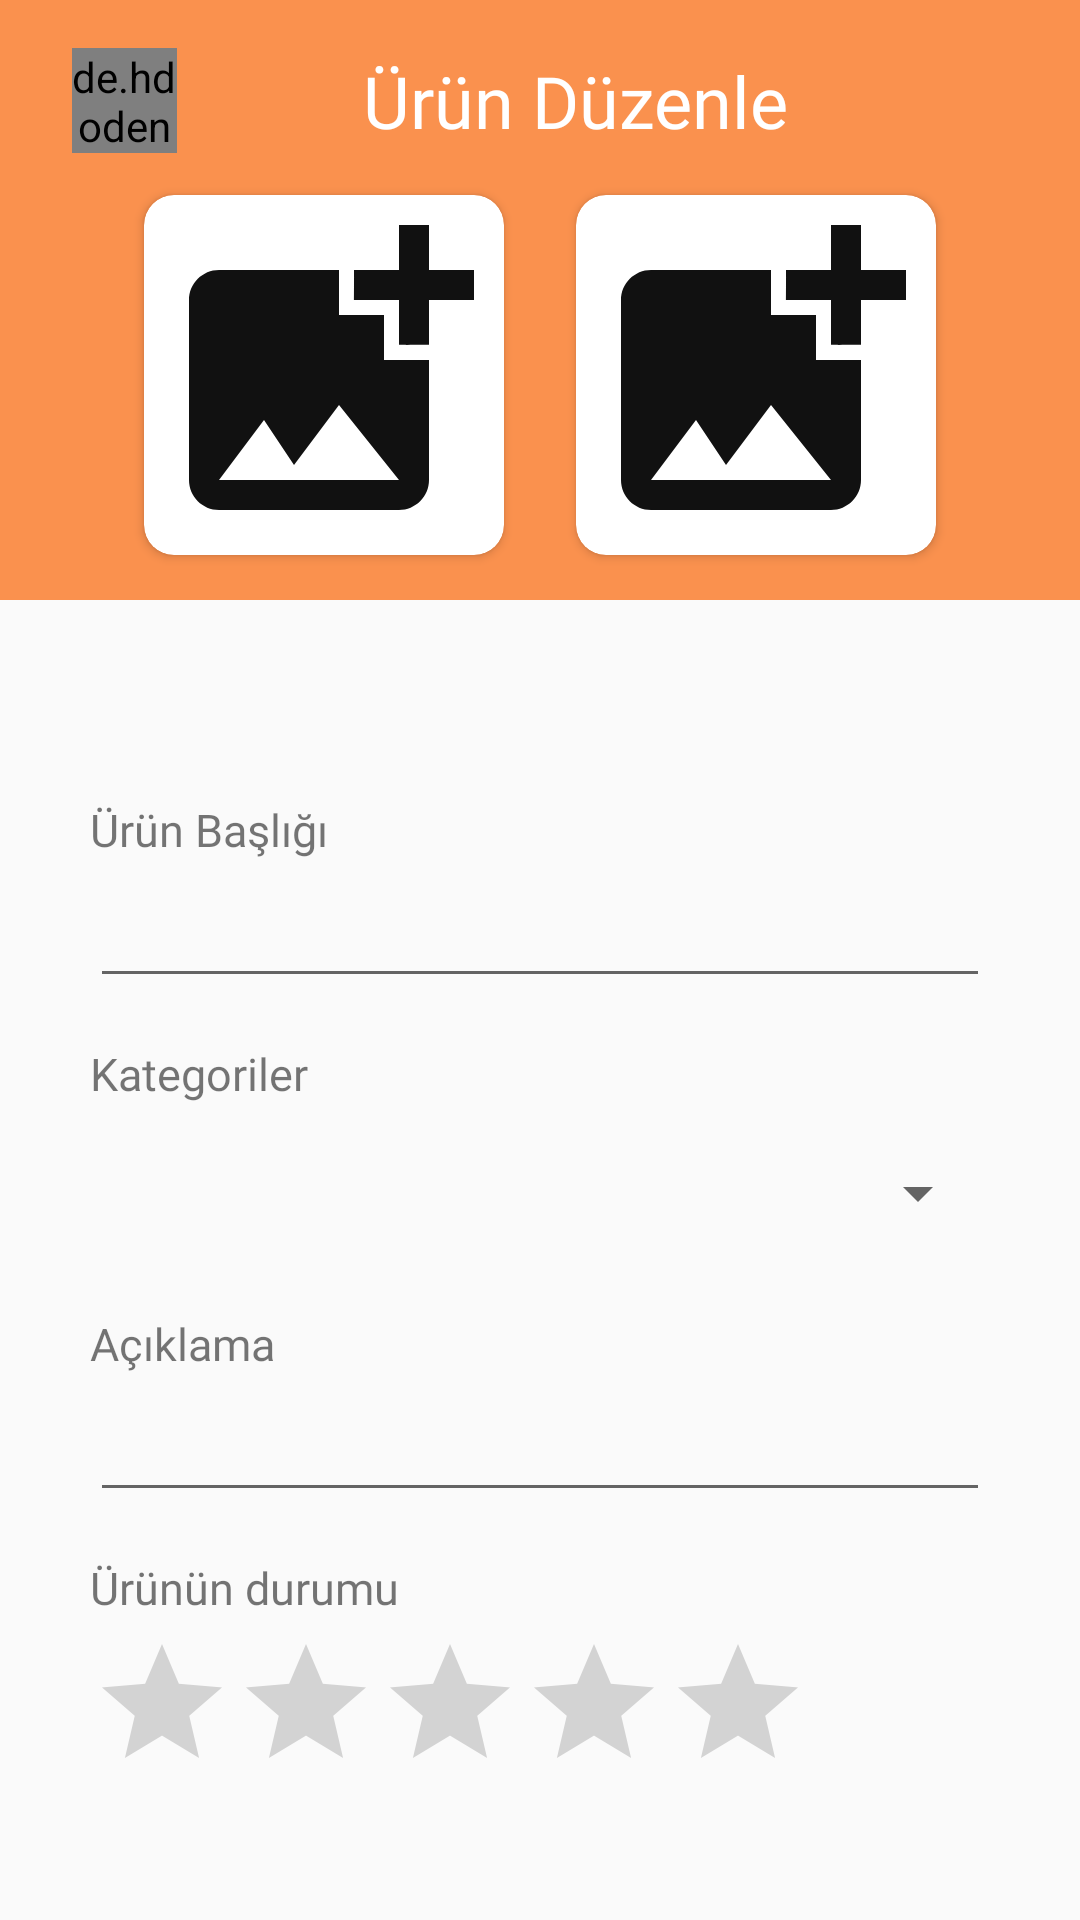

Named icons in this screenshot (1080*1920) and their centers, point (x, y):
add photo alternate: point (324, 375), point (756, 375)
